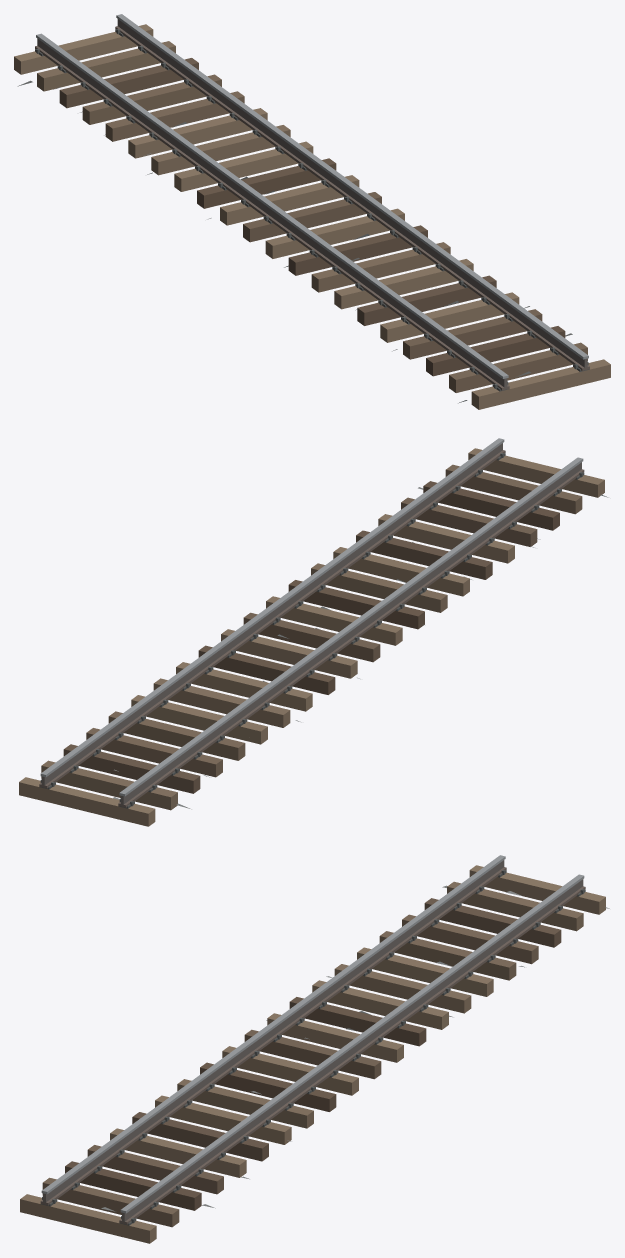
The model's file is rail_track_15m.gltf.
The picture shows the model from 3 angles, top to bottom: view 1: azimuth 30°, elevation 25°; view 2: azimuth 150°, elevation 25°; view 3: azimuth 330°, elevation 25°; orthographic projection.
Visible parts, largest first — view 1: rail_track_15m; view 2: rail_track_15m; view 3: rail_track_15m.
Part boxes in pixels (x1,y1,x2,y2): rail_track_15m: (14, 14, 610, 409); rail_track_15m: (19, 438, 608, 826); rail_track_15m: (20, 855, 609, 1243).
Bounding box in the file's own units: 3.09 × 0.5125 × 15.3.
